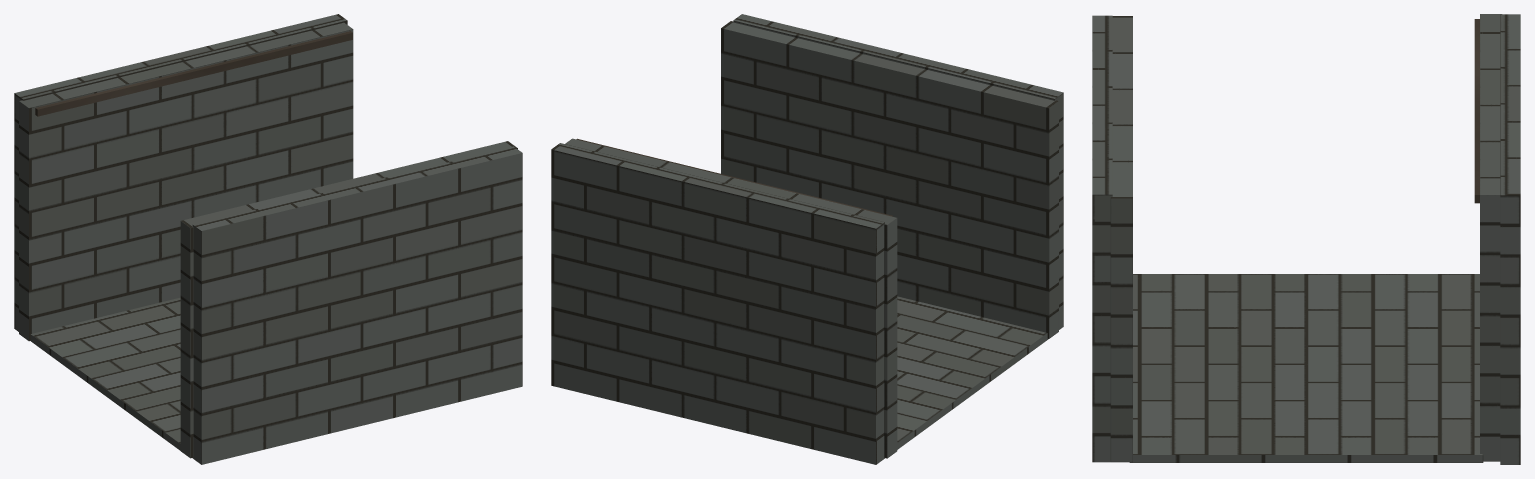
File: dungeon_room_passage_floor.glb
3 views of the same model, side by side, from view 1: azimuth 30°, elevation 25°; view 2: azimuth 150°, elevation 25°; view 3: azimuth 270°, elevation 25° (orthographic). The views are drawn at different scales.
Visible parts, largest first — view 1: dungeon_room_passage_floor; view 2: dungeon_room_passage_floor; view 3: dungeon_room_passage_floor.
Boxes of the visible parts, bbox=[...] form: dungeon_room_passage_floor: bbox=[14, 14, 522, 464]; dungeon_room_passage_floor: bbox=[551, 14, 1063, 464]; dungeon_room_passage_floor: bbox=[1092, 14, 1520, 464].
Bounding box in the file's own units: 5.05 × 3.47 × 5.
Materials: 1 (1 with a texture image).
